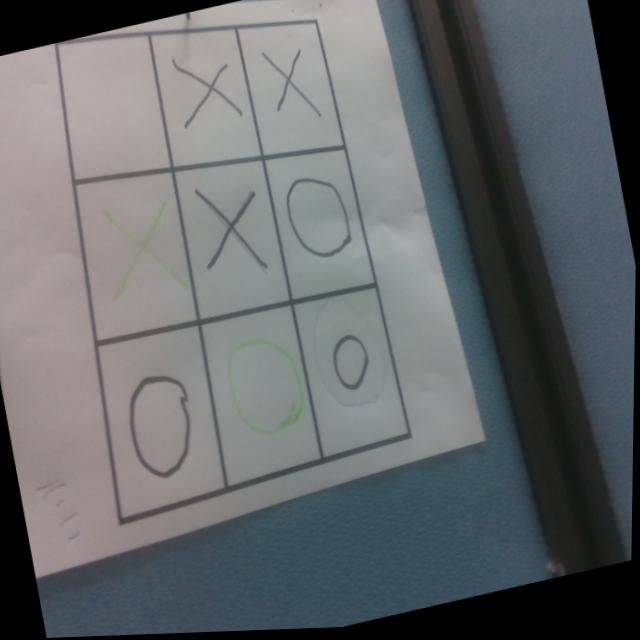null: (48, 24, 174, 195)
o: (222, 329, 313, 445), (121, 367, 203, 485), (280, 167, 359, 269), (328, 331, 376, 396)
table: (25, 0, 424, 523)
x: (103, 198, 186, 309), (196, 181, 271, 289), (174, 52, 245, 137), (262, 43, 324, 133)
